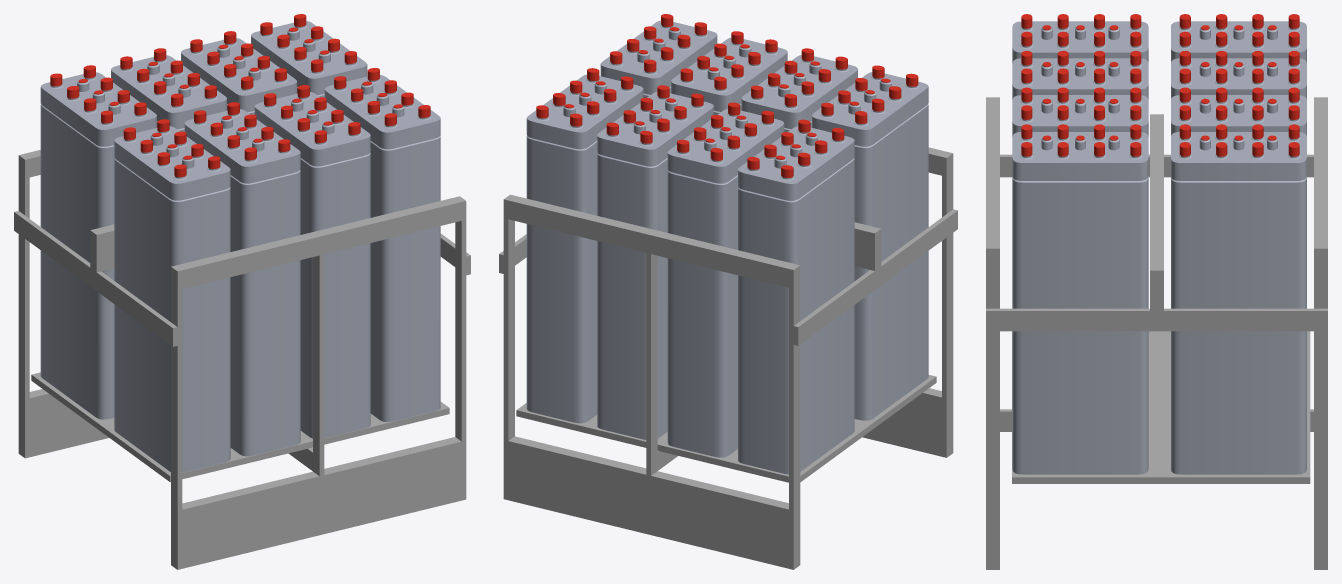
The picture shows the model from 3 angles, left to right: view 1: azimuth 30°, elevation 25°; view 2: azimuth 150°, elevation 25°; view 3: azimuth 270°, elevation 25°; orthographic projection. The views are drawn at different scales.
Visible parts, largest first — view 1: RM1-BH08W065D060; view 2: RM1-BH08W065D060; view 3: RM1-BH08W065D060.
Part boxes in pixels (x1=…): RM1-BH08W065D060: x1=14, y1=14, x2=470, y2=569; RM1-BH08W065D060: x1=499, y1=14, x2=957, y2=569; RM1-BH08W065D060: x1=986, y1=14, x2=1327, y2=569.
Size of the model in its own units: 0.65 by 0.8 by 0.6.
